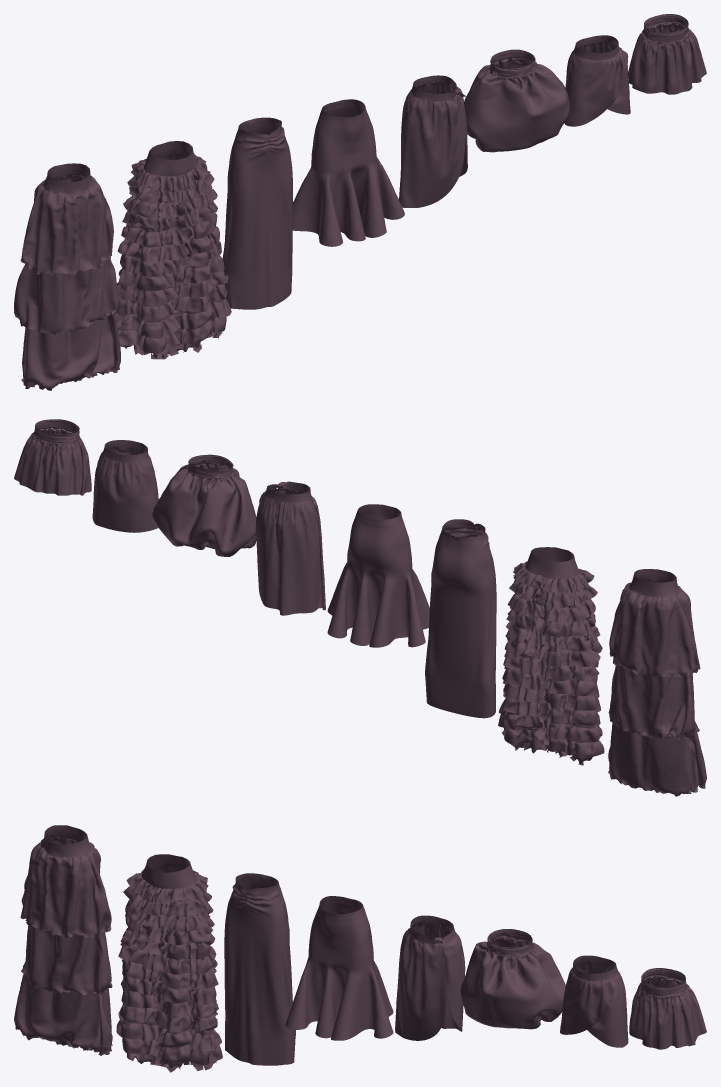
The model's file is skirts.glb.
The picture shows the model from 3 angles, top to bottom: view 1: azimuth 30°, elevation 25°; view 2: azimuth 150°, elevation 25°; view 3: azimuth 330°, elevation 25°; orthographic projection.
Visible parts, largest first — view 1: skirtsobjcleanermaterialmergergles; view 2: skirtsobjcleanermaterialmergergles; view 3: skirtsobjcleanermaterialmergergles.
Boxes of the visible parts, <box> form: skirtsobjcleanermaterialmergergles: <box>14,14,706,390</box>; skirtsobjcleanermaterialmergergles: <box>14,419,706,796</box>; skirtsobjcleanermaterialmergergles: <box>14,825,706,1072</box>.
Bounding box in the file's own units: 80.53 × 24.1 × 9.42.
